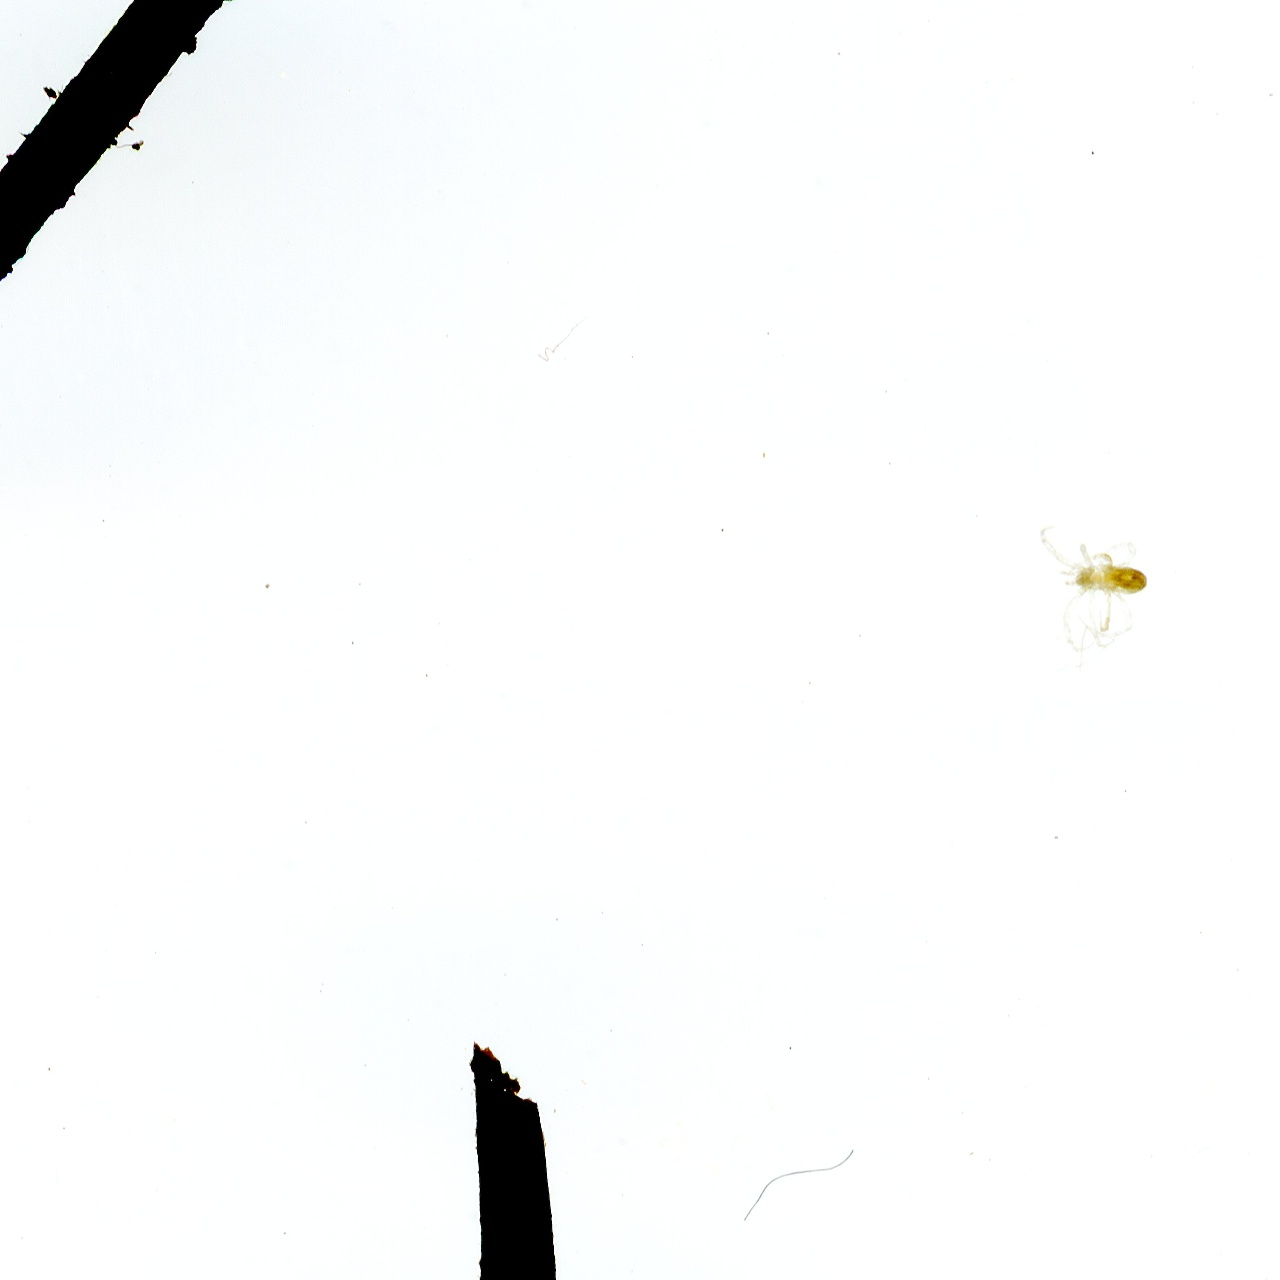arthropod: (1028, 519, 1152, 674)
